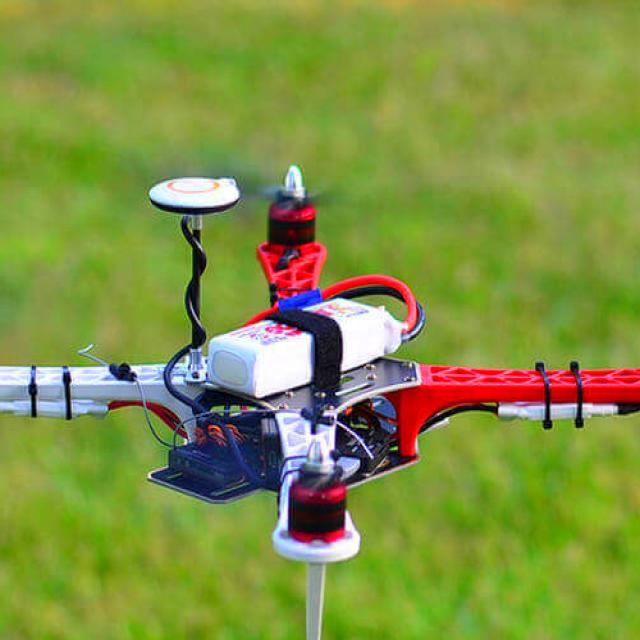drone: (0, 148, 640, 614)
